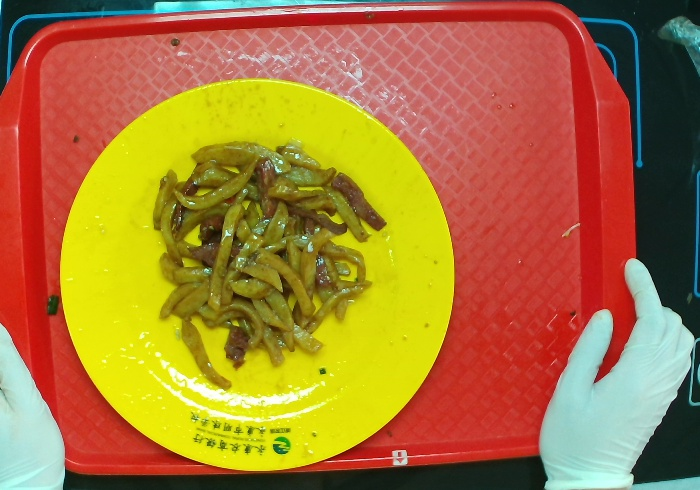YKMZ-Huang_Se_Mian_Pan: (55, 76, 459, 473)
